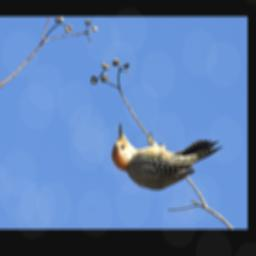Woodpecker: (102, 120, 227, 192)
